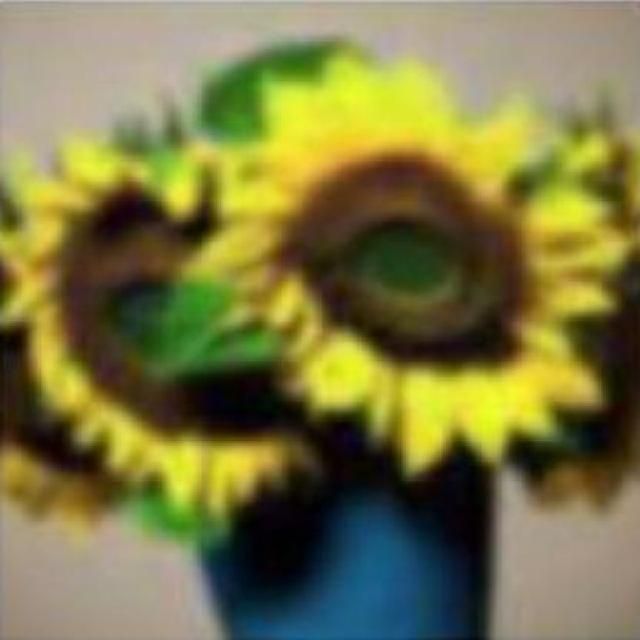sunflower: (211, 72, 635, 478)
